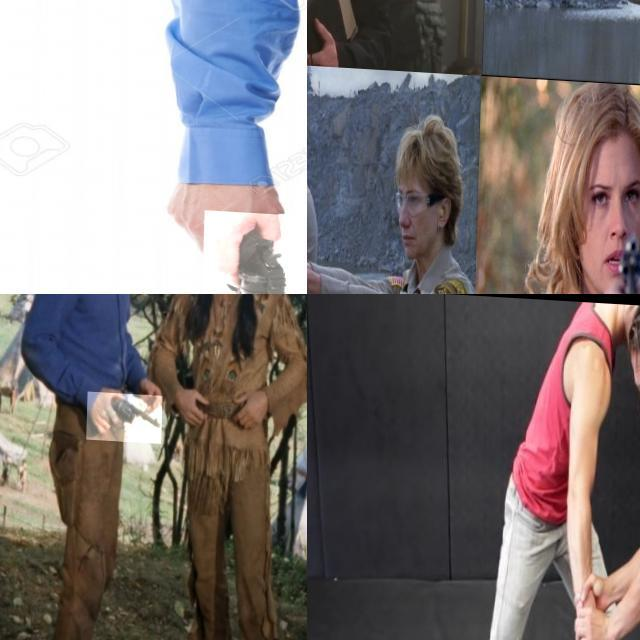gun-knife-thesis - v11 Yolov5 augmented: (202, 206, 299, 294), (307, 195, 349, 294), (89, 389, 164, 440), (596, 222, 640, 294), (485, 0, 548, 42), (307, 0, 330, 69)
